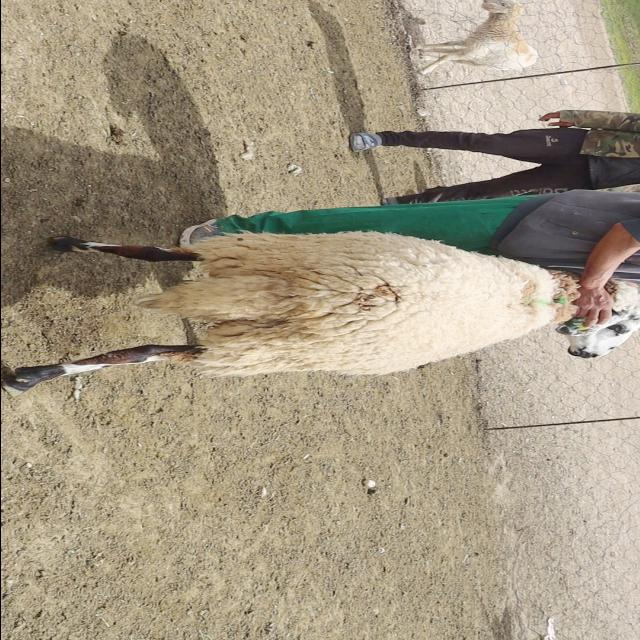Score_4: (4, 232, 579, 395)
